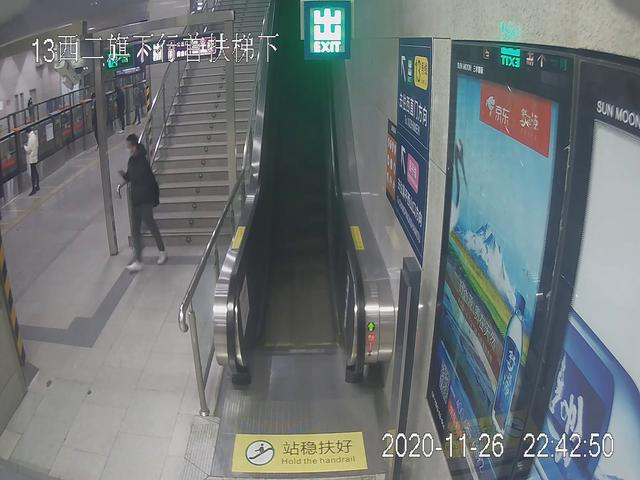person: (120, 132, 166, 272), (22, 127, 42, 198), (111, 83, 126, 135)
